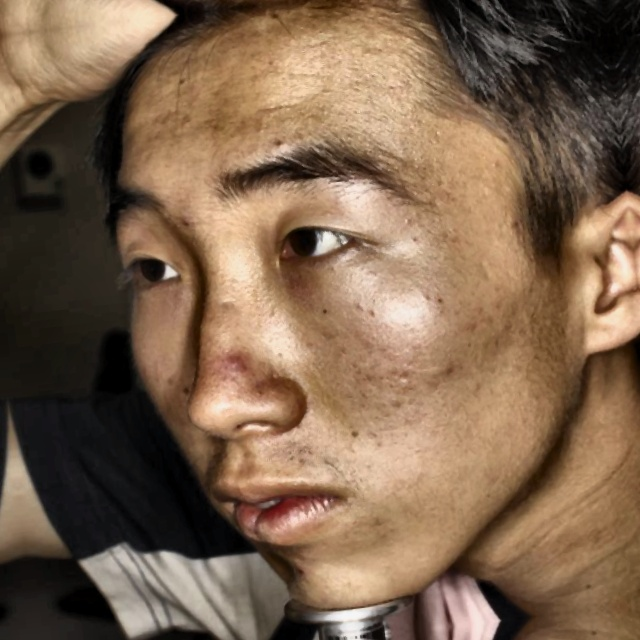comedone: (219, 346, 262, 380)
